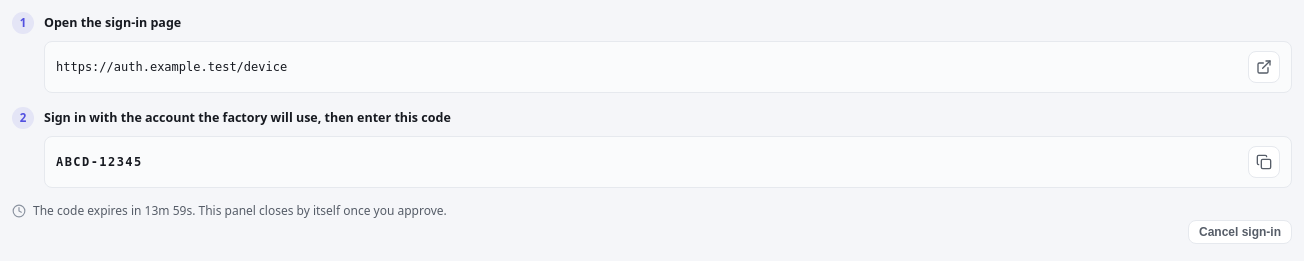
it: stops a sign-in the operator gave up on
What coordinates should you click on to do the following:
click the button "Cancel sign-in"
I would click on:
 (1240, 232)
Its box is x1=1188 y1=220 x2=1292 y2=244.
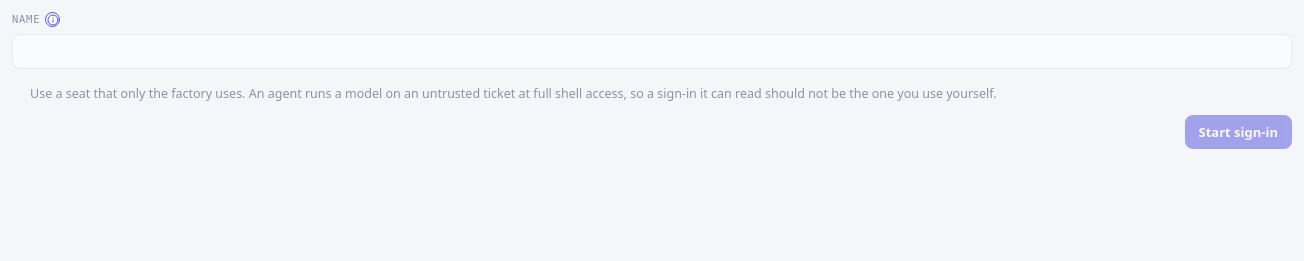
Expected: the button "Start sign-in" is shown, x1=1184 y1=115 x2=1292 y2=149
